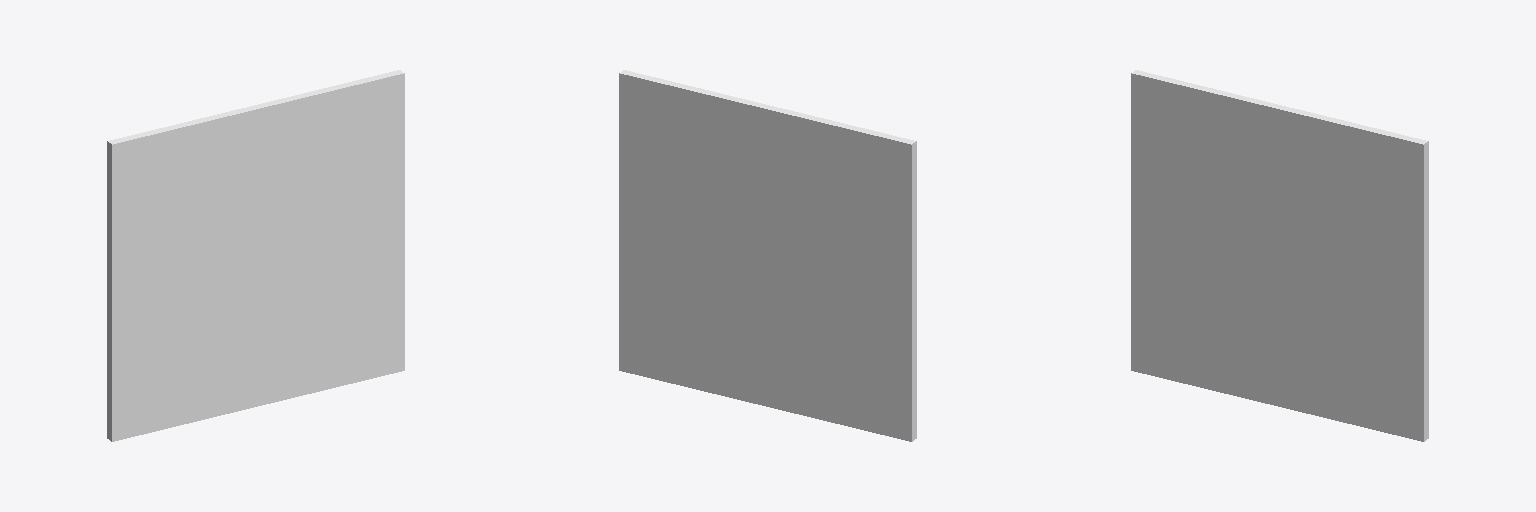
The model's file is numberWall.obj.
3 views of the same model, side by side, from view 1: azimuth 30°, elevation 25°; view 2: azimuth 150°, elevation 25°; view 3: azimuth 330°, elevation 25° (orthographic).
Parts seen in each view (by area): view 1: object 1; view 2: object 1; view 3: object 1.
Boxes of the visible parts, <box> form: object 1: <box>107,70,404,441</box>; object 1: <box>619,70,916,441</box>; object 1: <box>1131,70,1428,441</box>.
Bounding box in the file's own units: 3.6 × 3.5 × 0.1.